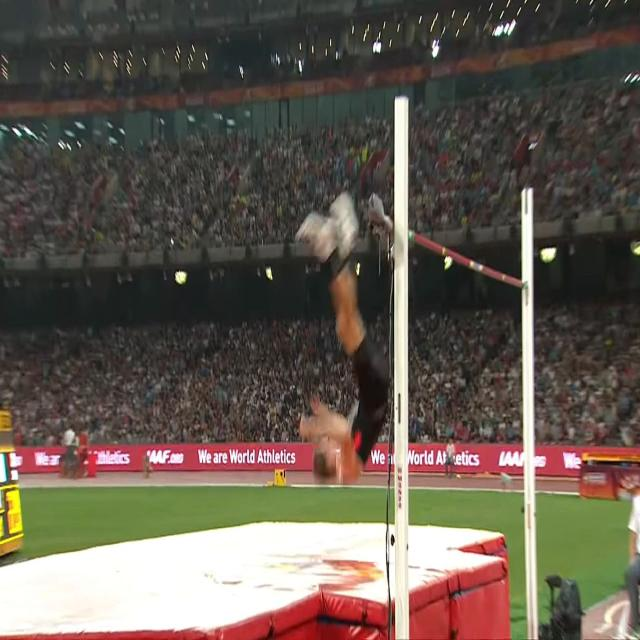land: (297, 192, 389, 480)
